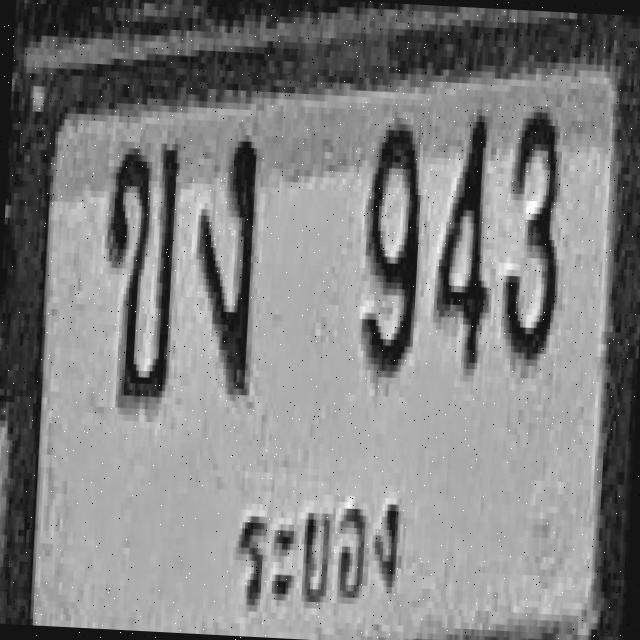11KhorKhai: (89, 109, 196, 435)
16NgorNgu: (187, 106, 280, 406)
3: (494, 95, 584, 397)
4: (419, 92, 506, 398)
9: (328, 94, 436, 409)
Rayong: (207, 468, 437, 640)
